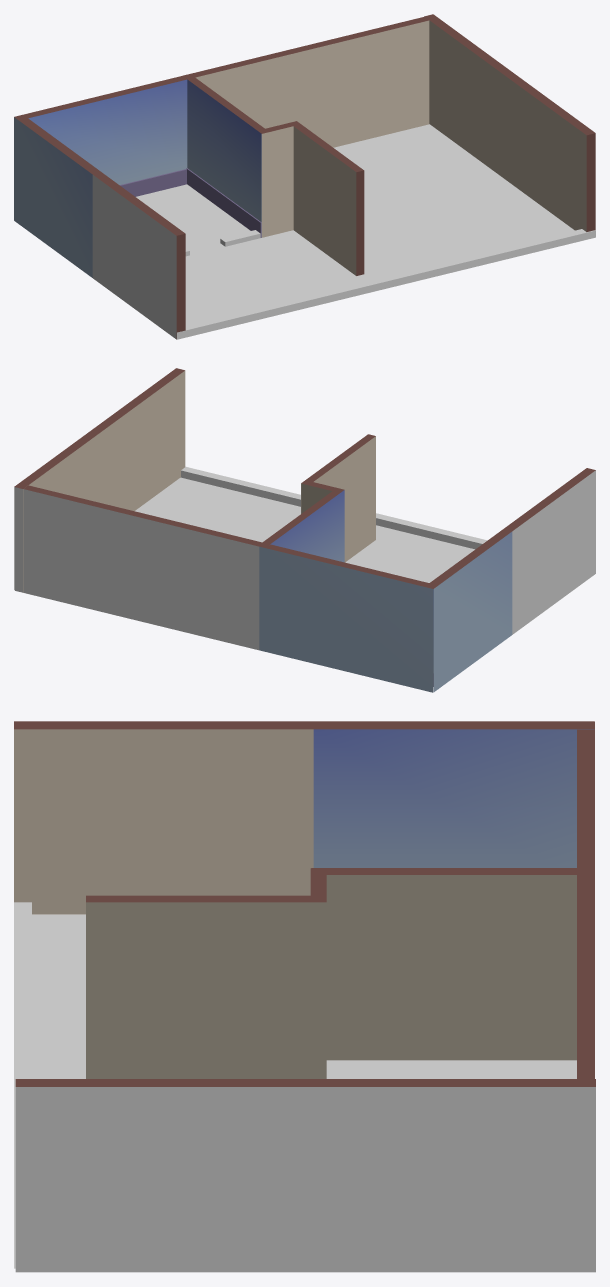
The model's file is ParedesColoridas.fbx.
The picture shows the model from 3 angles, top to bottom: view 1: azimuth 30°, elevation 25°; view 2: azimuth 150°, elevation 25°; view 3: azimuth 270°, elevation 25°; orthographic projection. The views are drawn at different scales.
Visible parts, largest first — view 1: HouseFloor, HouseWalls_Back, HouseWalls_Right, HouseWalls_Mid, HouseWalls_BathroomB, HouseWalls_Left, HouseWalls_BathroomL, HouseWalls_BathroomM, HouseWalls_Front, HouseFloor_Bathroom; view 2: HouseWalls_Back, HouseWalls_BathroomB, HouseWalls_Right, HouseFloor, HouseWalls_Left, HouseWalls_BathroomL, HouseWalls_Mid, HouseWalls_Front, HouseWalls_BathroomM; view 3: HouseWalls_Right, HouseWalls_Mid, HouseWalls_Left, HouseWalls_BathroomL, HouseFloor, HouseWalls_Back, HouseWalls_Front, HouseWalls_BathroomB.
Boxes of the visible parts, <box> form: HouseFloor: <box>185,124,574,325</box>; HouseWalls_Back: <box>190,16,429,147</box>; HouseWalls_Right: <box>424,14,595,231</box>; HouseWalls_Mid: <box>182,74,364,275</box>; HouseWalls_BathroomB: <box>23,76,187,196</box>; HouseWalls_Left: <box>92,172,185,339</box>; HouseWalls_BathroomL: <box>14,115,101,277</box>; HouseWalls_BathroomM: <box>186,79,261,237</box>; HouseWalls_Front: <box>177,229,595,339</box>; HouseFloor_Bathroom: <box>136,184,250,252</box>; HouseWalls_Back: <box>15,485,261,650</box>; HouseWalls_BathroomB: <box>259,544,433,692</box>; HouseWalls_Right: <box>14,368,185,592</box>; HouseFloor: <box>135,477,474,582</box>; HouseWalls_Left: <box>503,468,595,634</box>; HouseWalls_BathroomL: <box>425,529,512,691</box>; HouseWalls_Mid: <box>258,434,375,562</box>; HouseWalls_Front: <box>181,466,487,549</box>; HouseWalls_BathroomM: <box>270,490,344,562</box>; HouseWalls_Right: <box>15,1079,595,1272</box>; HouseWalls_Mid: <box>86,868,594,1078</box>; HouseWalls_Left: <box>14,721,313,914</box>; HouseWalls_BathroomL: <box>313,721,594,867</box>; HouseFloor: <box>14,915,576,1268</box>; HouseWalls_Back: <box>577,874,594,1078</box>; HouseWalls_Front: <box>14,902,31,1259</box>; HouseWalls_BathroomB: <box>577,722,594,873</box>.
Size of the model in its own units: 2273 by 542 by 1529.
